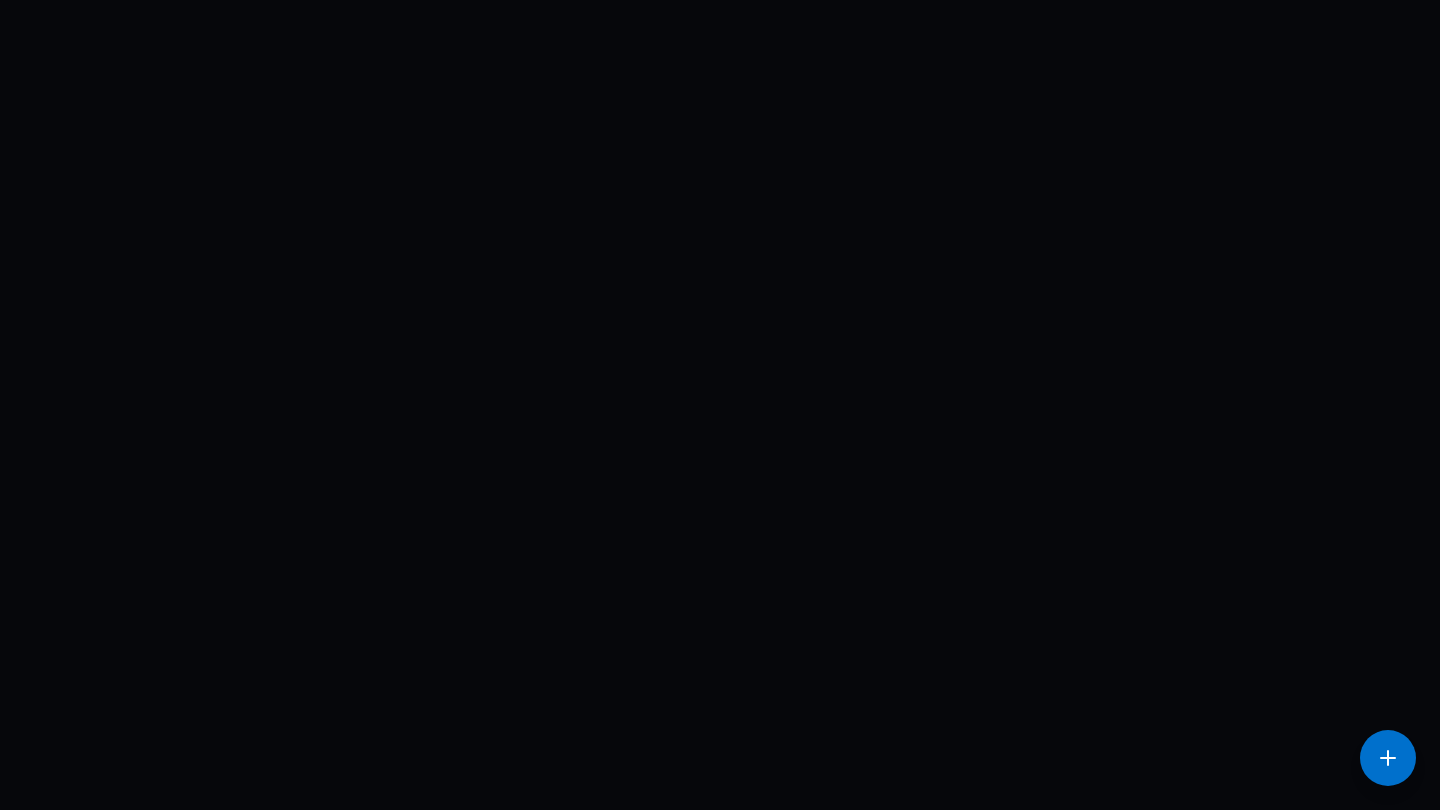
QuickCaptureModal › opens from the global shortcut and submits a capture
Press n
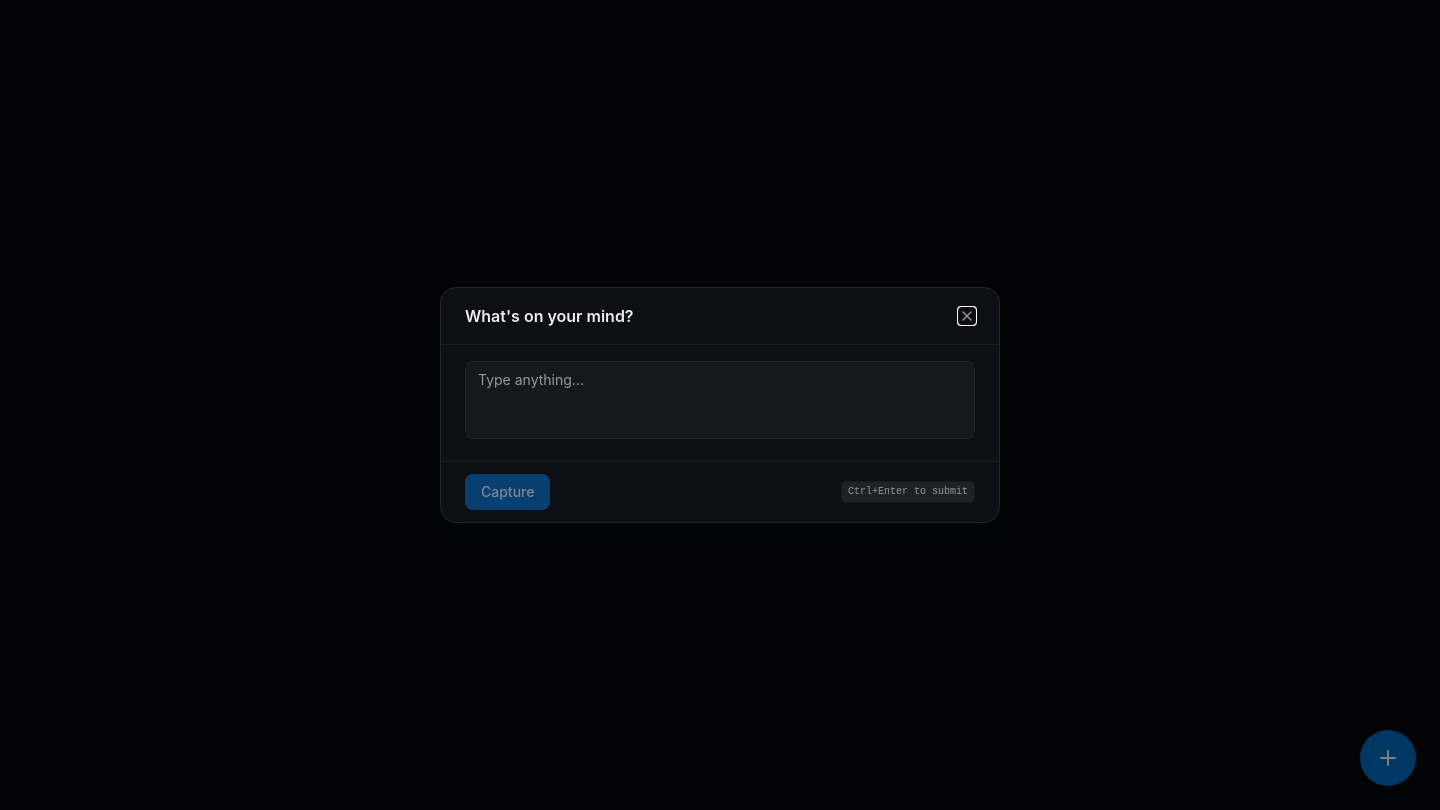
Expected: the dialog "What's on your mind?" is shown, [440,287,1000,523]
In the text box with placeholder "Type anything...": (720, 400) [465,361,975,439], type "Quick note"
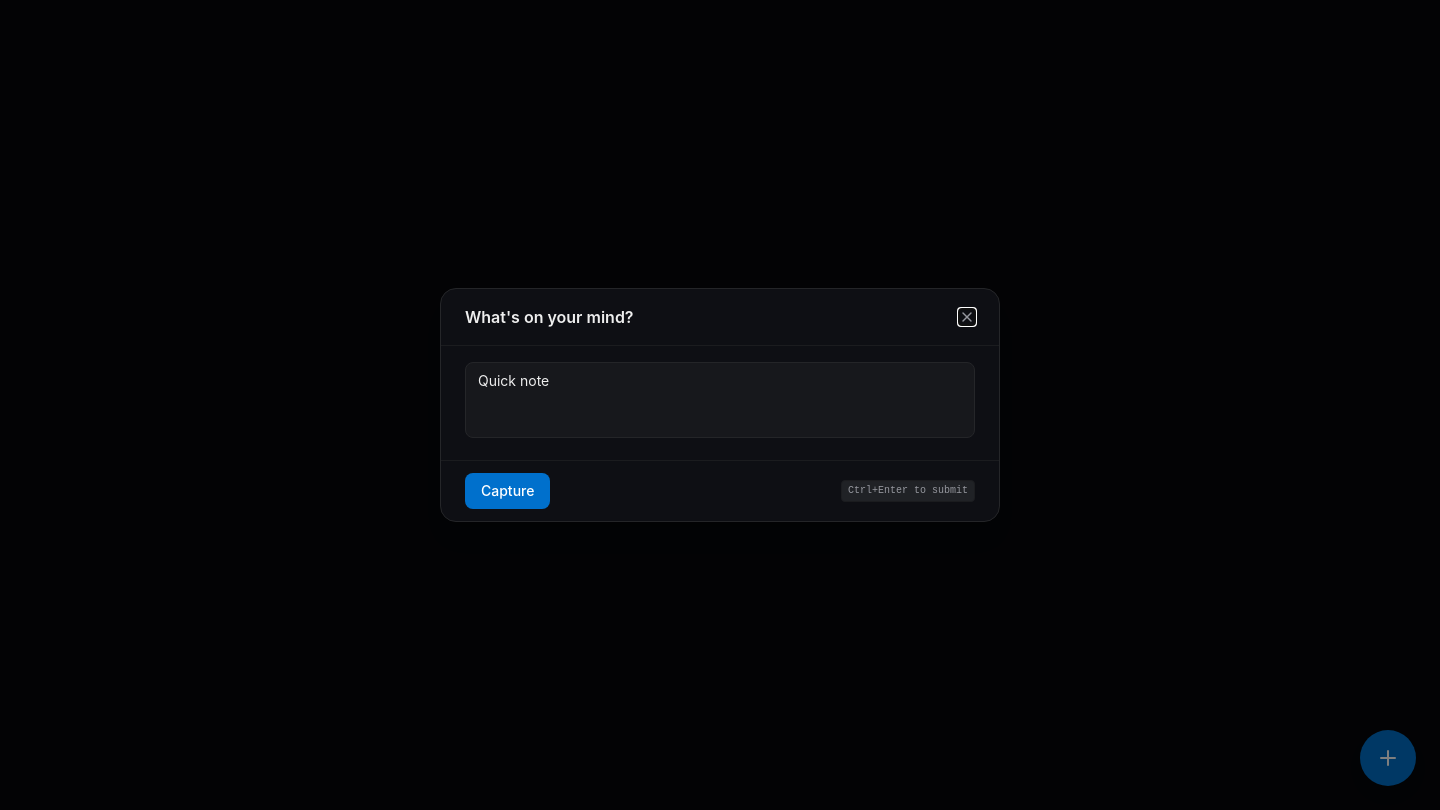
Click the button "Capture": (508, 491) [465,473,550,509]
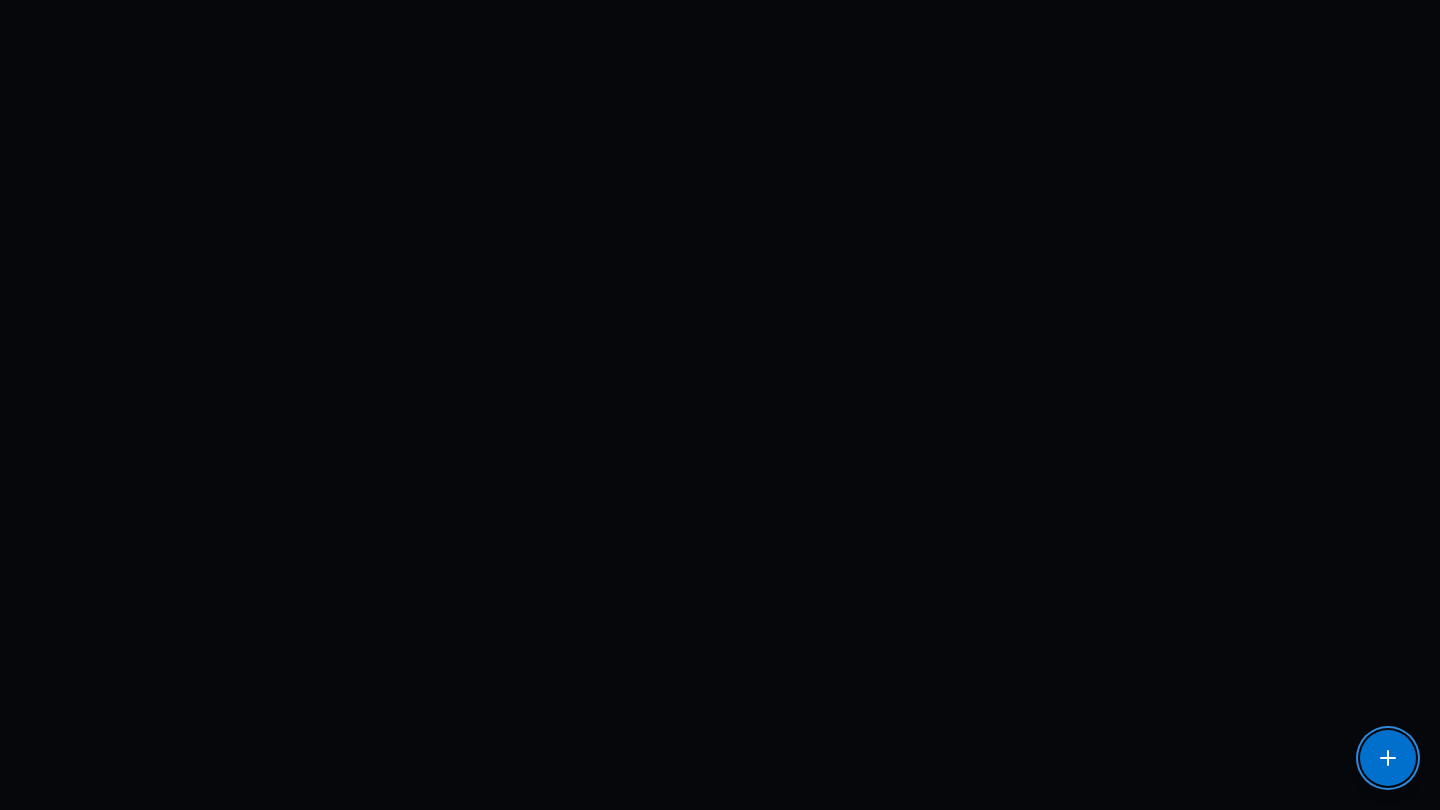
Expected: the heading "What's on your mind?" is gone
